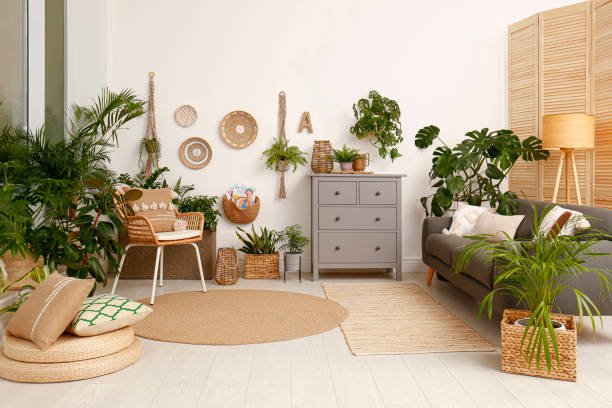chair: (110, 183, 211, 308)
floor lamp: (538, 110, 597, 205)
large plant: (1, 111, 122, 284), (413, 123, 548, 215)
small plant: (236, 218, 279, 279), (279, 222, 310, 282), (329, 144, 359, 172)
sofa: (418, 192, 612, 321)
